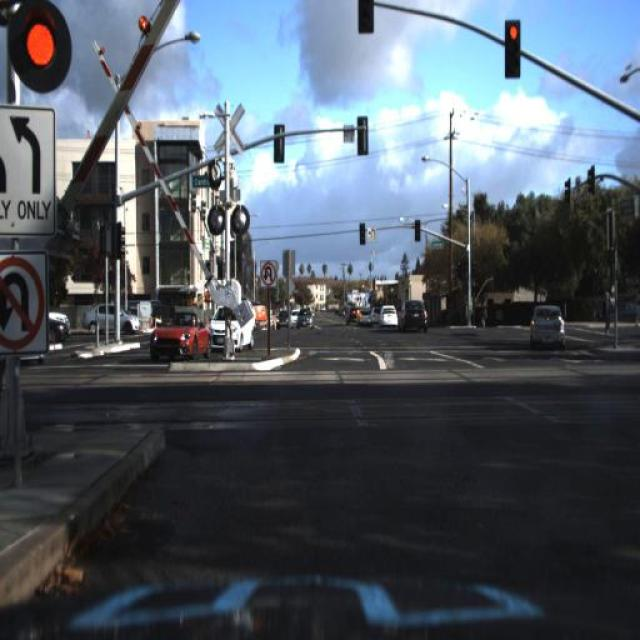car: (527, 290, 574, 362), (150, 306, 210, 360), (78, 302, 142, 342), (393, 288, 436, 344), (210, 303, 256, 351), (372, 297, 404, 339), (36, 316, 70, 346), (378, 300, 404, 332), (44, 324, 68, 356), (292, 304, 314, 330), (272, 303, 294, 328), (356, 300, 374, 330), (47, 310, 73, 330), (344, 302, 360, 328), (272, 308, 290, 331), (346, 300, 358, 328)
trafficLight: (602, 272, 618, 332), (602, 286, 617, 336), (478, 287, 493, 328)
trafficLight-Green: (503, 18, 521, 78), (356, 210, 372, 250), (412, 214, 422, 242)
trafficLight-GreenLeft: (459, 251, 470, 283)
trafficLight-RedLeft: (0, 0, 105, 100), (496, 12, 529, 87)
